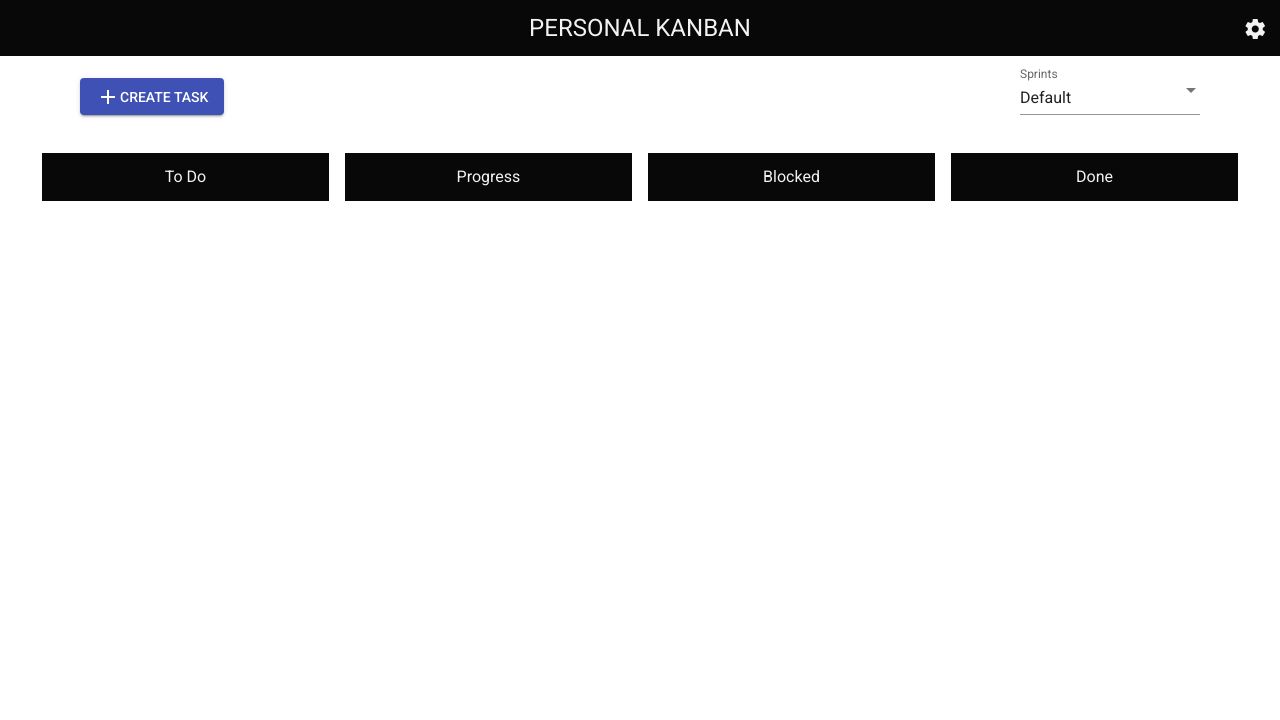
Test: kanban app › should display sprint dialog
Click the picture in the row of "PERSONAL KANBAN" at x=1255, y=29, box [1243,17,1267,41]
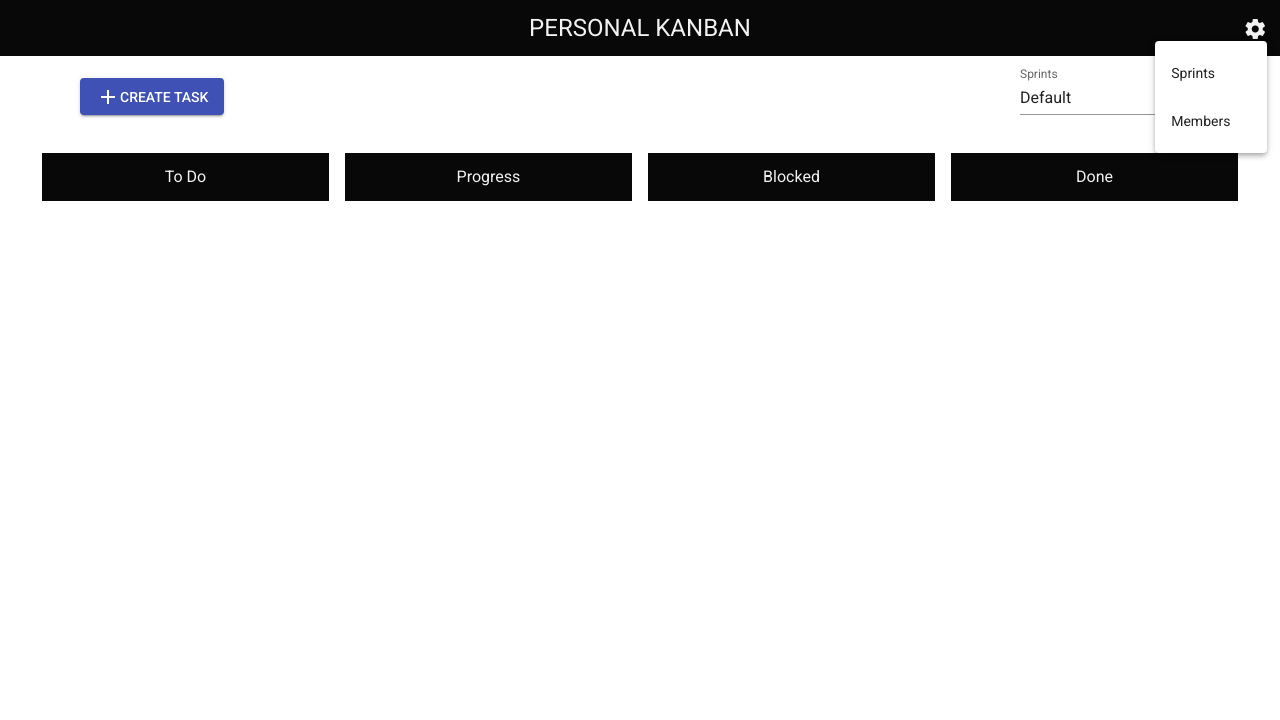
Click the menu item "Sprints" at x=1211, y=73, box [1155,49,1267,97]
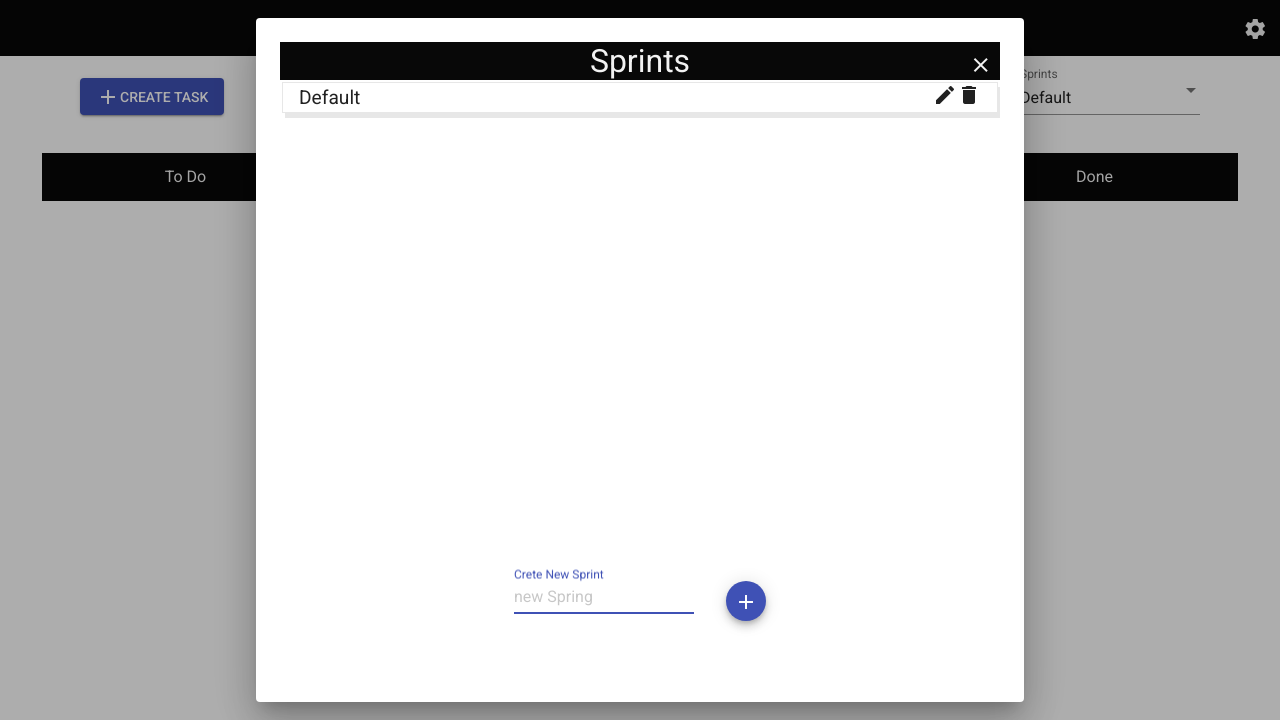
Expected: the dialog is shown, [256,18,1024,702]
